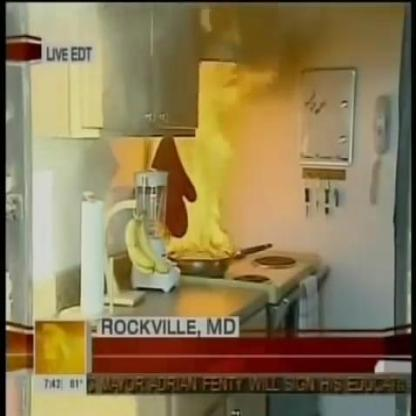fire: (167, 61, 246, 262)
